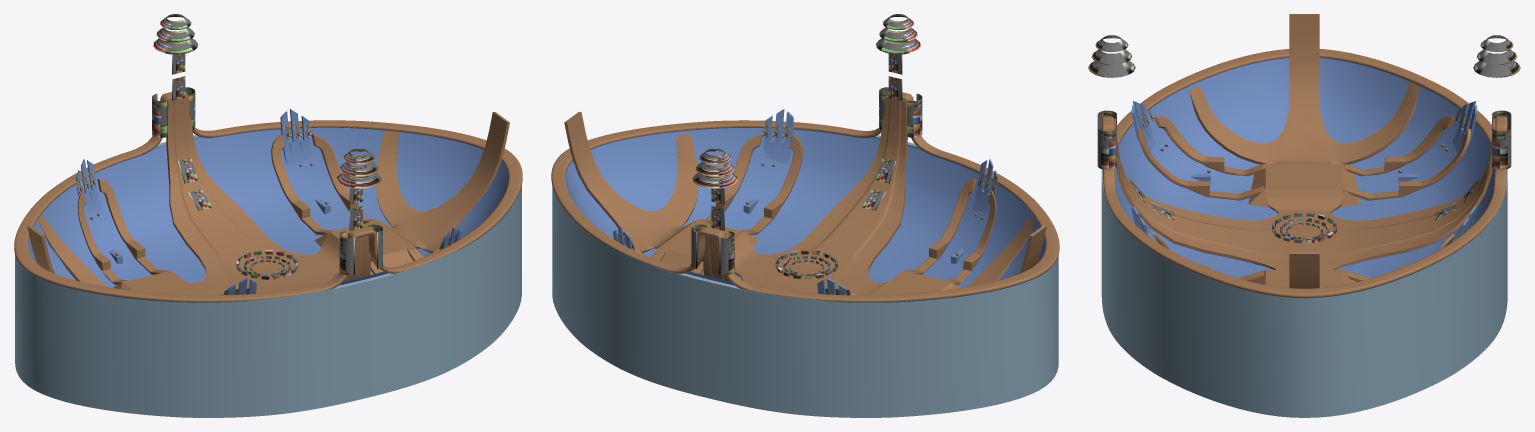
File: Scateboard_v01.fbx
3 views of the same model, side by side, from view 1: azimuth 30°, elevation 25°; view 2: azimuth 150°, elevation 25°; view 3: azimuth 270°, elevation 25° (orthographic). The views are drawn at different scales.
Visible parts, largest first — view 1: Scateboard, Ground_Center, Rings, Arrow, Plane005, Line_Lights, Lights_1; view 2: Scateboard, Ground_Center, Rings, Arrow, Plane005, Line_Lights, Lights_1; view 3: Scateboard, Ground_Center, Rings, Arrow, Plane005, Lights_1.
Boxes of the visible parts, box(x1,y1,x2,y2) form: Scateboard: box(14, 92, 522, 302); Ground_Center: box(15, 135, 521, 417); Rings: box(153, 14, 381, 188); Arrow: box(152, 87, 382, 275); Plane005: box(172, 53, 362, 230); Line_Lights: box(76, 124, 456, 294); Lights_1: box(236, 250, 298, 279); Scateboard: box(551, 92, 1059, 302); Ground_Center: box(552, 135, 1058, 417); Rings: box(692, 14, 920, 188); Arrow: box(691, 87, 922, 274); Plane005: box(711, 53, 902, 230); Line_Lights: box(617, 124, 997, 295); Lights_1: box(775, 250, 837, 279); Scateboard: box(1102, 14, 1507, 298); Ground_Center: box(1101, 169, 1507, 417); Rings: box(1088, 35, 1520, 77); Arrow: box(1097, 110, 1511, 169); Plane005: box(1130, 178, 1478, 220); Lights_1: box(1272, 212, 1336, 243).
Size of the model in its own units: 10874 by 5242 by 8042.
Materials: 1 (1 with a texture image).
